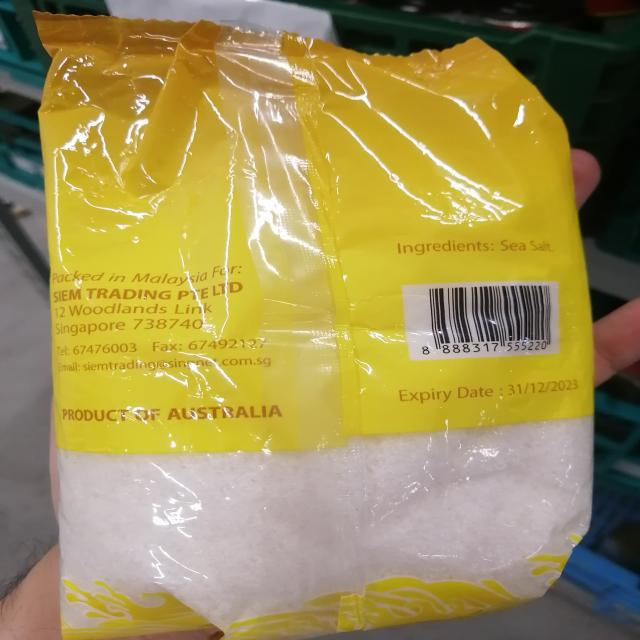object_name: (52, 31, 561, 623)
